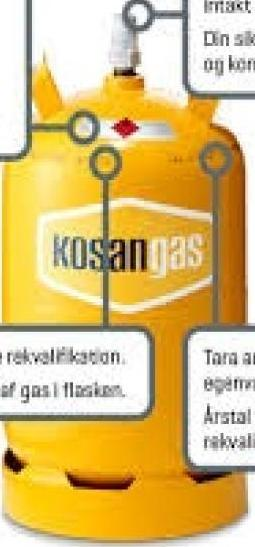cylinder: (1, 1, 255, 547)
